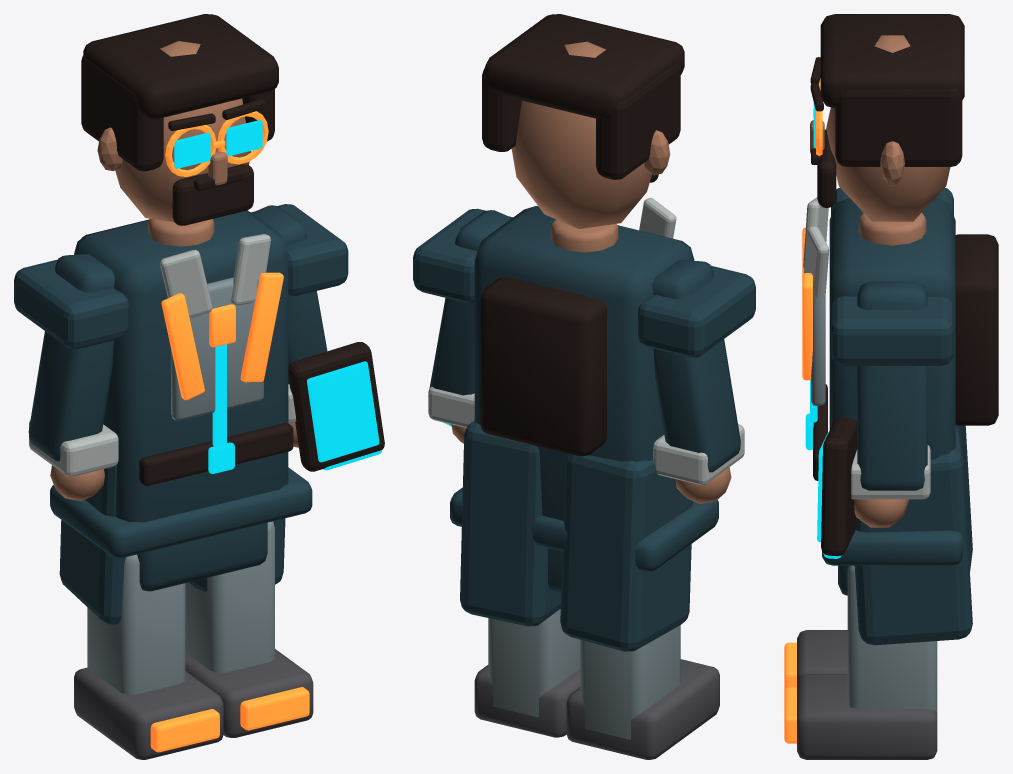
File: Dr-Elias-Vale_v3.glb
3 views of the same model, side by side, from view 1: azimuth 30°, elevation 25°; view 2: azimuth 150°, elevation 25°; view 3: azimuth 270°, elevation 25° (orthographic). The views are drawn at different scales.
Visible parts, largest first — view 1: Elias_CoatBody, Elias_Hair, Elias_Leg_L, Elias_UpperArm_L, Elias_Leg_R, Elias_CoatHem, Elias_Boot_L, Elias_V2_Shoulder_L, Elias_V2_TabletScreen, Elias_V2_HairSide_L, Elias_ShirtFront, Elias_Pelvis (+27 smaller); view 2: Elias_CoatBody, Elias_V2_CoatTail_L, Elias_BackDataModule, Elias_V2_CoatTail_R, Elias_Hair, Elias_Head, Elias_UpperArm_L, Elias_Leg_L, Elias_V2_Shoulder_L, Elias_Leg_R, Elias_Boot_L, Elias_V2_HairSide_L (+12 smaller); view 3: Elias_V2_CoatTail_R, Elias_CoatBody, Elias_Hair, Elias_UpperArm_R, Elias_V2_HairSide_R, Elias_Boot_R, Elias_BackDataModule, Elias_V2_Shoulder_R, Elias_Leg_R, Elias_Head, Elias_V2_TabletFrame, Elias_CoatHem (+16 smaller).
Boxes of the visible parts, <box> form: Elias_CoatBody: <box>74,210,288,522</box>; Elias_Hair: <box>83,14,278,118</box>; Elias_Leg_L: <box>87,554,185,694</box>; Elias_UpperArm_L: <box>28,254,114,461</box>; Elias_Leg_R: <box>185,521,274,672</box>; Elias_CoatHem: <box>50,467,312,557</box>; Elias_Boot_L: <box>74,667,223,759</box>; Elias_V2_Shoulder_L: <box>14,259,128,349</box>; Elias_V2_TabletScreen: <box>307,361,379,462</box>; Elias_V2_HairSide_L: <box>81,54,163,171</box>; Elias_ShirtFront: <box>171,277,263,420</box>; Elias_Pelvis: <box>137,522,267,591</box>; Elias_CoatBody: <box>474,206,694,520</box>; Elias_V2_CoatTail_L: <box>560,454,692,651</box>; Elias_BackDataModule: <box>480,277,606,456</box>; Elias_V2_CoatTail_R: <box>460,420,561,626</box>; Elias_Hair: <box>484,14,684,118</box>; Elias_Head: <box>511,41,651,228</box>; Elias_UpperArm_L: <box>652,260,740,472</box>; Elias_Leg_L: <box>580,625,680,739</box>; Elias_V2_Shoulder_L: <box>638,265,755,357</box>; Elias_Leg_R: <box>488,609,580,717</box>; Elias_Boot_L: <box>566,659,719,759</box>; Elias_V2_HairSide_L: <box>596,63,680,179</box>; Elias_V2_CoatTail_R: <box>854,427,972,645</box>; Elias_CoatBody: <box>829,198,955,459</box>; Elias_Hair: <box>820,14,964,108</box>; Elias_UpperArm_R: <box>857,281,927,490</box>; Elias_V2_HairSide_R: <box>835,88,962,166</box>; Elias_Boot_R: <box>797,674,937,759</box>; Elias_BackDataModule: <box>955,234,998,425</box>; Elias_V2_Shoulder_R: <box>831,296,953,365</box>; Elias_Leg_R: <box>847,565,937,712</box>; Elias_Head: <box>826,35,950,221</box>; Elias_V2_TabletFrame: <box>821,417,857,556</box>; Elias_CoatHem: <box>822,530,962,565</box>.
Size of the model in its own units: 1.75 by 3.56 by 1.01.
